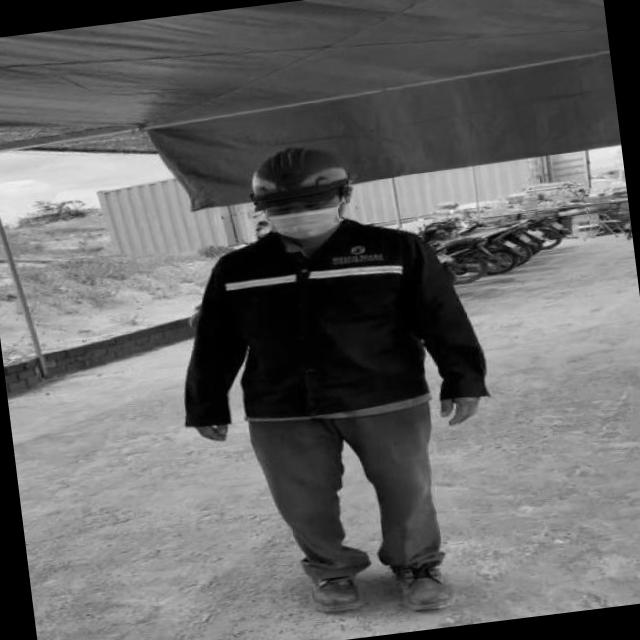person: (184, 108, 514, 629)
